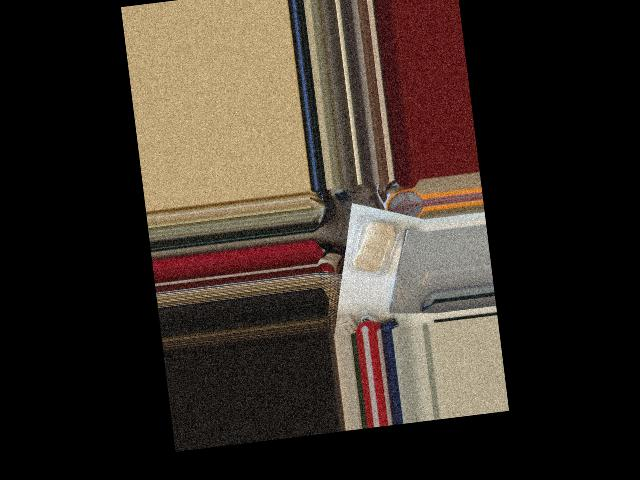cheese: (340, 206, 407, 283)
